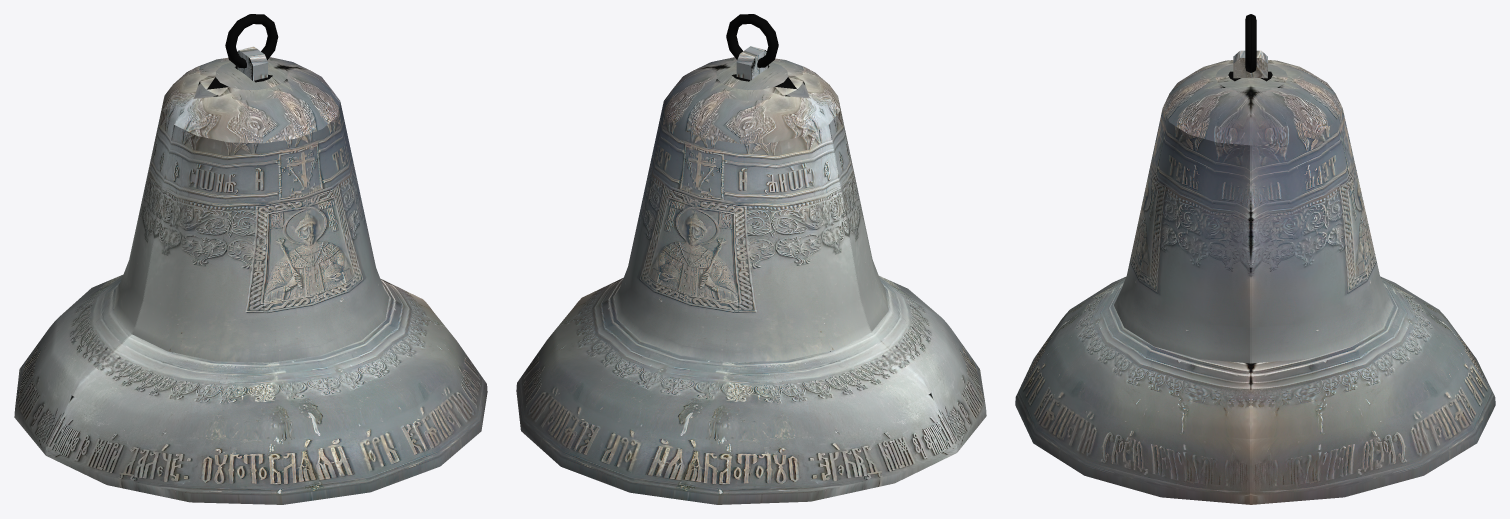
3 views of the same model, side by side, from view 1: azimuth 30°, elevation 25°; view 2: azimuth 150°, elevation 25°; view 3: azimuth 270°, elevation 25° (orthographic).
Visible parts, largest first — view 1: Colocol.001; view 2: Colocol.001; view 3: Colocol.001.
Part boxes in pixels (x1=…): Colocol.001: x1=14, y1=14, x2=487, y2=504; Colocol.001: x1=516, y1=14, x2=986, y2=504; Colocol.001: x1=1015, y1=14, x2=1495, y2=504.
Size of the model in its own units: 1.59 by 1.64 by 1.61.
Materials: 3 (2 with a texture image).
